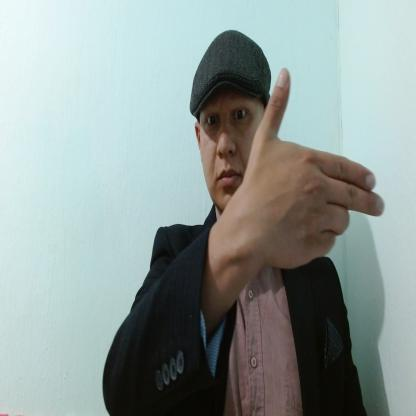H: (247, 66, 385, 271)
